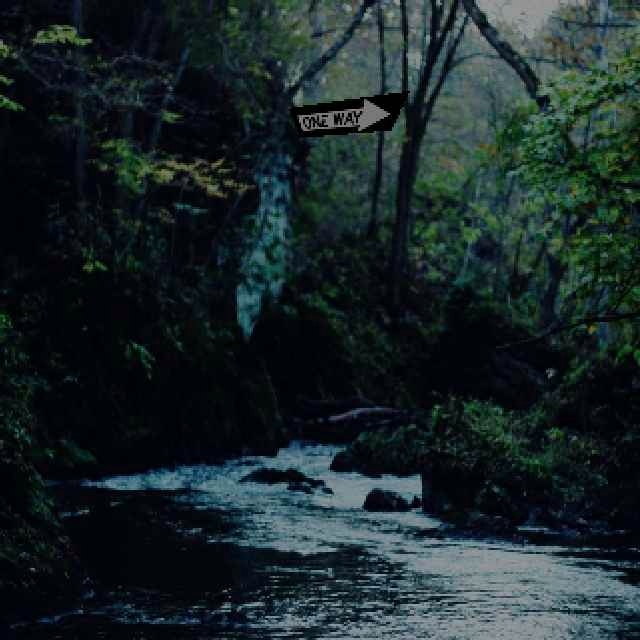ONE_WAY_ right: (287, 89, 408, 136)
